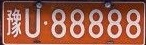U: (25, 9, 40, 38)
